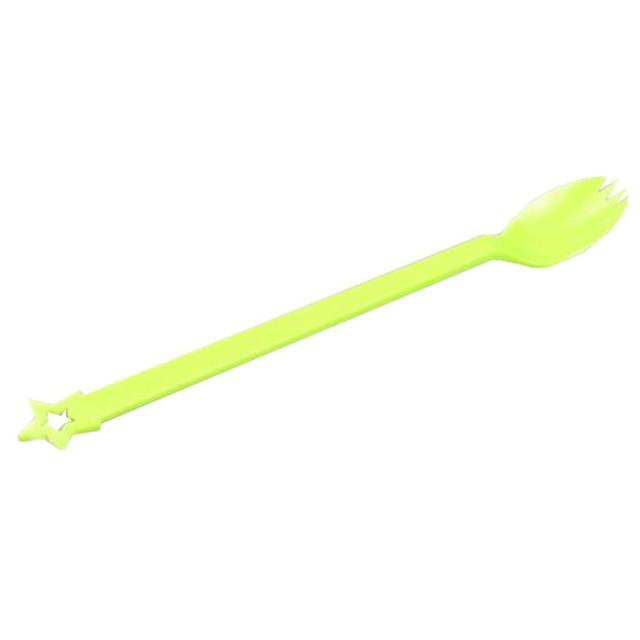spoon: (0, 173, 632, 452)
